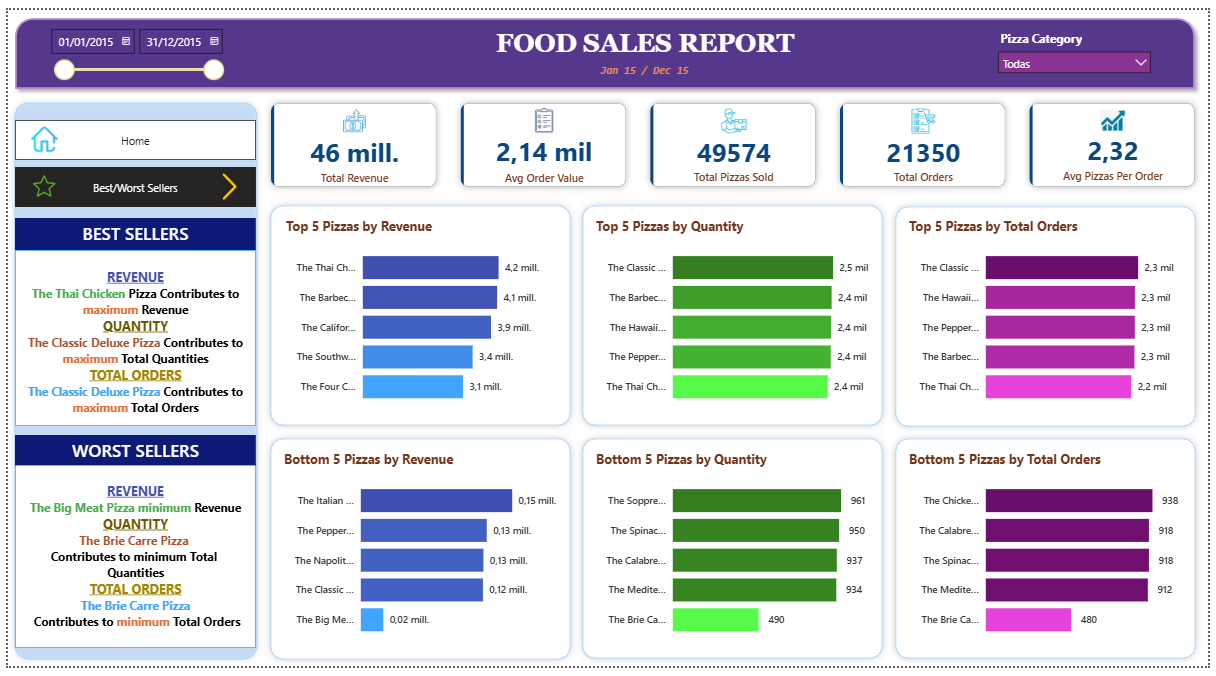

The dashboard page shown, as its layout file describes it:
{"tool":"powerbi","page":{"name":"Best/Worst Sellers","canvas":[1500,820],"ordinal":1},"visuals":[{"type":"cardVisual","fields":{"Data":["pizza_sales.Total Revenue","pizza_sales.Avg Order Value","pizza_sales.Total Pizzas Sold","pizza_sales.Total Orders","pizza_sales.Avg Pizzas Per Order"]},"box":[304,91.2,1208.8,155],"z":0},{"type":"shape","box":[0,1.2,1492.5,106.2],"z":1000},{"type":"textbox","box":[605,18.8,398.8,55],"z":2000},{"type":"textbox","box":[730,61.2,131.2,35],"z":3000},{"type":"shape","box":[320,236.2,391.2,291.2],"z":4000},{"type":"shape","box":[0,107.5,320,712.5],"z":5000},{"type":"textbox","box":[8.8,260,301.2,40],"z":6000},{"type":"textbox","box":[8.8,300,301.2,220],"z":7000},{"type":"textbox","box":[8.8,567.5,301.2,230],"z":8000},{"type":"textbox","box":[8.8,531.2,301.2,37.5],"z":9000},{"type":"slicer","fields":{"Values":["pizza_sales.pizza_category"]},"box":[1227.5,20,211.2,68.8],"z":10000},{"type":"slicer","fields":{"Values":["pizza_sales.order_date"]},"box":[41.2,13.8,236.2,82.5],"z":11000},{"type":"shape","box":[320,527.5,391.2,292.5],"z":12000},{"type":"shape","box":[710,236.2,391.2,291.2],"z":13000},{"type":"shape","box":[710,527.5,391.2,291.2],"z":14000},{"type":"shape","box":[1101.2,237.5,391.2,291.2],"z":15000},{"type":"shape","box":[1101.2,527.5,391.2,291.2],"z":16000},{"type":"barChart","title":"Top 5 Pizzas by Revenue","fields":{"Category":["pizza_sales.pizza_name"],"Y":["pizza_sales.Total Revenue"]},"box":[342.5,258.8,351.2,247.5],"z":17000},{"type":"barChart","title":"Bottom 5 Pizzas by Revenue","fields":{"Category":["pizza_sales.pizza_name"],"Y":["pizza_sales.Total Revenue"]},"box":[340,550,351.2,247.5],"z":18000},{"type":"barChart","title":"Top 5 Pizzas by Quantity","fields":{"Category":["pizza_sales.pizza_name"],"Y":["pizza_sales.Total Pizzas Sold"]},"box":[730,258.8,351.2,247.5],"z":19000},{"type":"barChart","title":"Bottom 5 Pizzas by Quantity","fields":{"Category":["pizza_sales.pizza_name"],"Y":["pizza_sales.Total Pizzas Sold"]},"box":[730,550,351.2,247.5],"z":20000},{"type":"barChart","title":"Top 5 Pizzas by Total Orders","fields":{"Category":["pizza_sales.pizza_name"],"Y":["pizza_sales.Total Orders"]},"box":[1121.2,258.8,351.2,247.5],"z":21000},{"type":"barChart","title":"Bottom 5 Pizzas by Total Orders","fields":{"Category":["pizza_sales.pizza_name"],"Y":["pizza_sales.Total Orders"]},"box":[1121.2,550,351.2,247.5],"z":22000},{"type":"pageNavigator","box":[8.8,138,301.2,50],"z":23000},{"type":"pageNavigator","box":[8.8,196.2,301.2,50],"z":24000},{"type":"image","box":[252.5,203.8,48.8,33.8],"z":25000},{"type":"image","box":[15,145,61,33],"z":26000},{"type":"image","box":[31,185,28,70],"z":27000}]}

Visuals, with their boxes in screenshot pixels (x1, y1, x2, y2), scaled from the page's 1500x820 canvas onto the 1216x676 screenshot:
cardVisual - pizza_sales.Total Revenue x pizza_sales.Avg Order Value: (246,75,1215,203)
shape: (0,1,1210,89)
textbox: (490,15,814,61)
textbox: (592,50,698,79)
shape: (259,195,577,435)
shape: (0,89,259,675)
textbox: (7,214,251,247)
textbox: (7,247,251,429)
textbox: (7,468,251,657)
textbox: (7,438,251,469)
slicer - pizza_sales.pizza_category: (995,16,1166,73)
slicer - pizza_sales.order_date: (33,11,225,79)
shape: (259,435,577,675)
shape: (576,195,893,435)
shape: (576,435,893,675)
shape: (893,196,1210,436)
shape: (893,435,1210,675)
"Top 5 Pizzas by Revenue" barChart: (278,213,562,417)
"Bottom 5 Pizzas by Revenue" barChart: (276,453,560,657)
"Top 5 Pizzas by Quantity" barChart: (592,213,876,417)
"Bottom 5 Pizzas by Quantity" barChart: (592,453,876,657)
"Top 5 Pizzas by Total Orders" barChart: (909,213,1194,417)
"Bottom 5 Pizzas by Total Orders" barChart: (909,453,1194,657)
pageNavigator: (7,114,251,155)
pageNavigator: (7,162,251,203)
image: (205,168,244,196)
image: (12,120,62,147)
image: (25,153,48,210)
